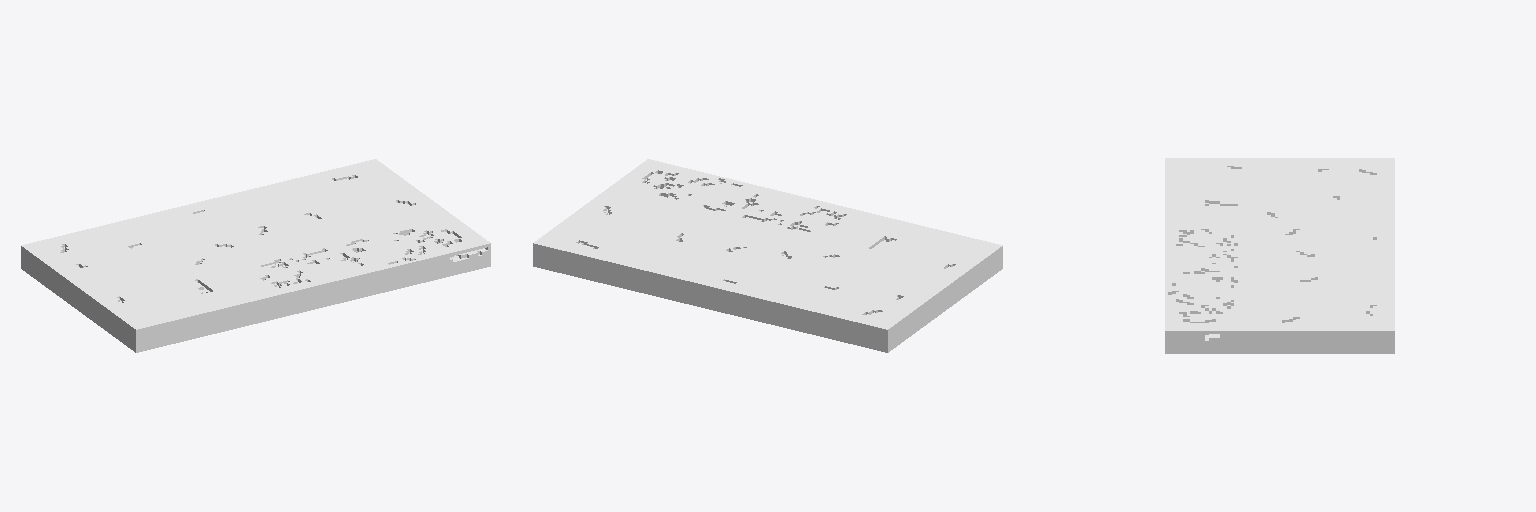
Rendered from big_floors_default.obj.
The picture shows the model from 3 angles: view 1: azimuth 30°, elevation 25°; view 2: azimuth 150°, elevation 25°; view 3: azimuth 270°, elevation 25°; orthographic projection.
Bounding box in the file's own units: 112 × 7 × 63.